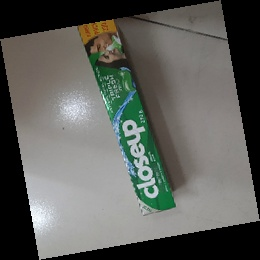CloseUp Xanh: (77, 12, 177, 216)
